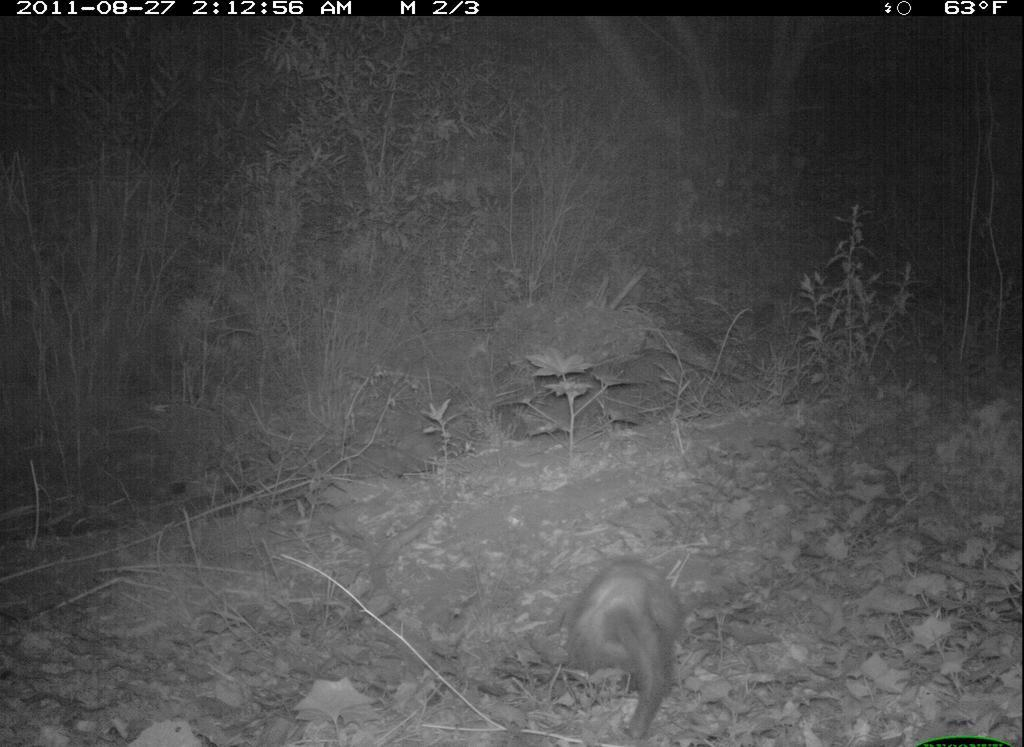opossum: (556, 551, 689, 747)
